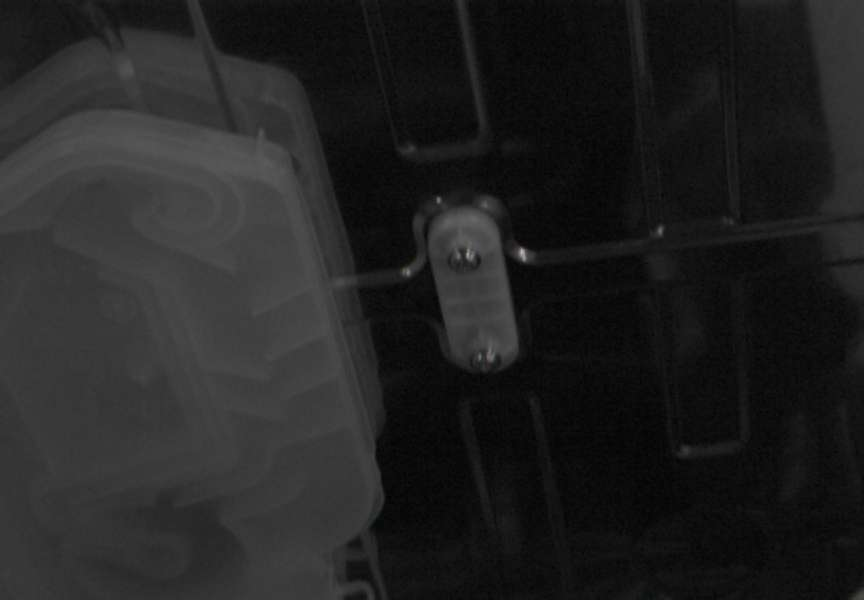screw: (448, 246, 481, 273), (470, 348, 501, 374)
